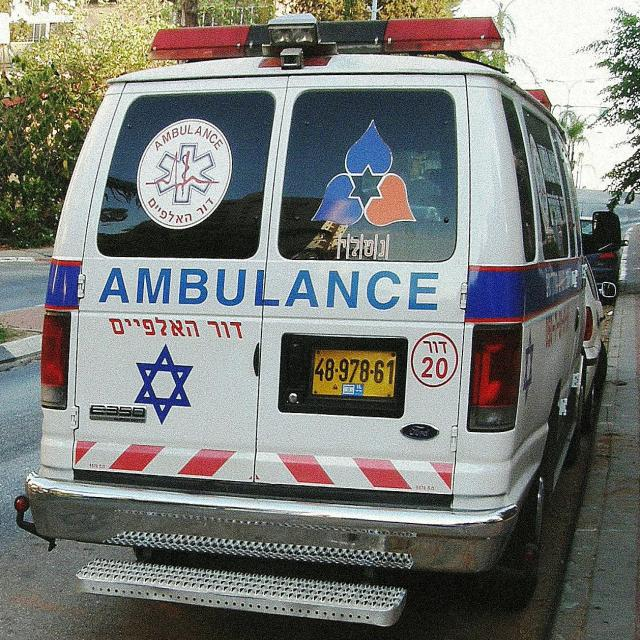emergency-vehicle: (24, 26, 608, 640)
